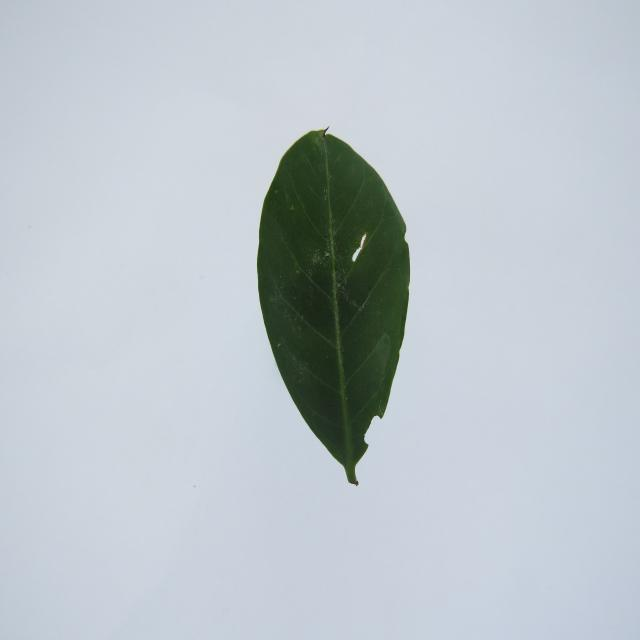DeficienciaNutricional-Boro: (258, 128, 410, 485)
